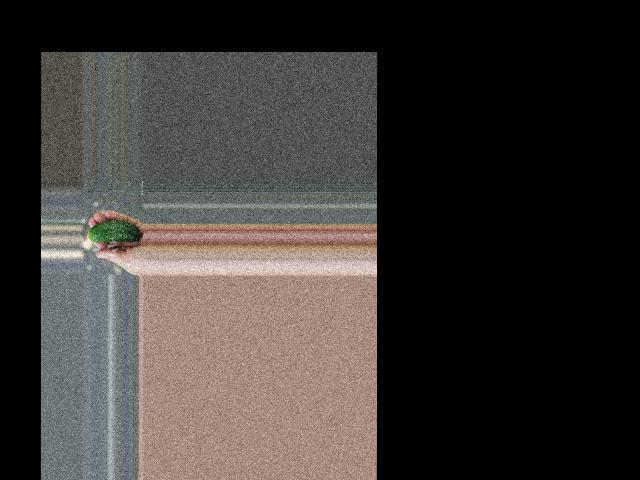cucumber: (89, 219, 141, 242)
